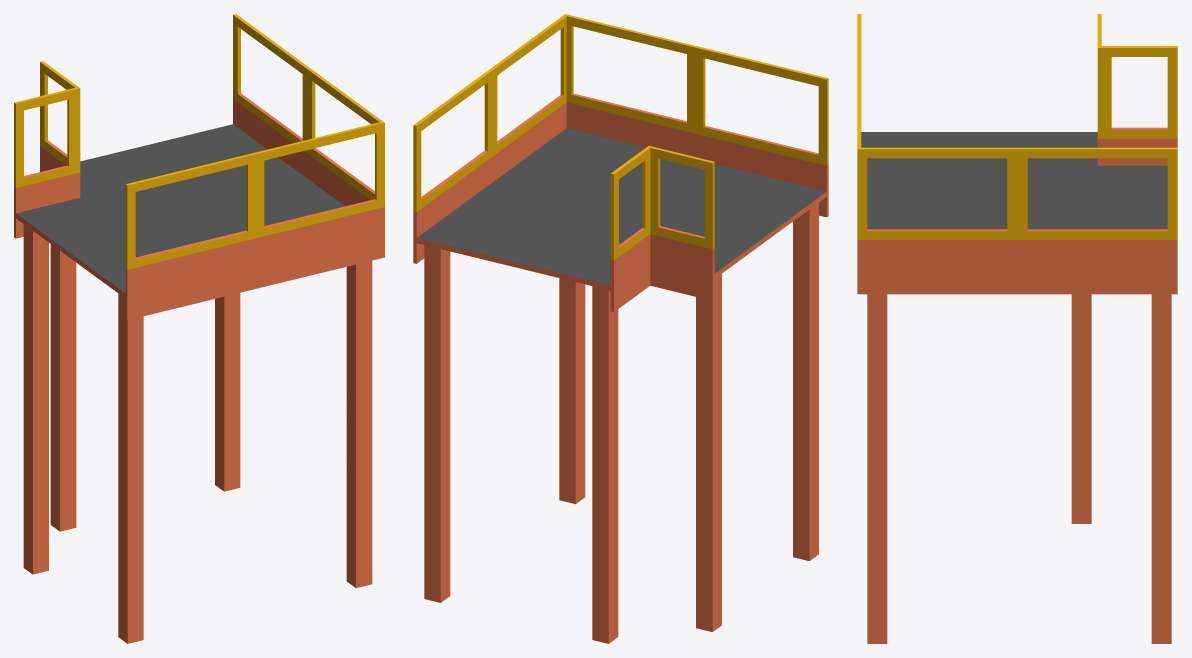
The model's file is Prop_Industrial_Platform_Walkway_Narrow_Bend_03.FBX.
3 views of the same model, side by side, from view 1: azimuth 30°, elevation 25°; view 2: azimuth 150°, elevation 25°; view 3: azimuth 270°, elevation 25° (orthographic). The views are drawn at different scales.
Parts seen in each view (by area): view 1: Prop_Industrial_Platform_Walkway_Narrow_Bend_03; view 2: Prop_Industrial_Platform_Walkway_Narrow_Bend_03; view 3: Prop_Industrial_Platform_Walkway_Narrow_Bend_03.
Boxes of the visible parts, bbox=[...] form: Prop_Industrial_Platform_Walkway_Narrow_Bend_03: bbox=[14, 14, 384, 643]; Prop_Industrial_Platform_Walkway_Narrow_Bend_03: bbox=[413, 14, 828, 643]; Prop_Industrial_Platform_Walkway_Narrow_Bend_03: bbox=[857, 14, 1177, 643].
Size of the model in its own units: 3200 by 5500 by 3200.
